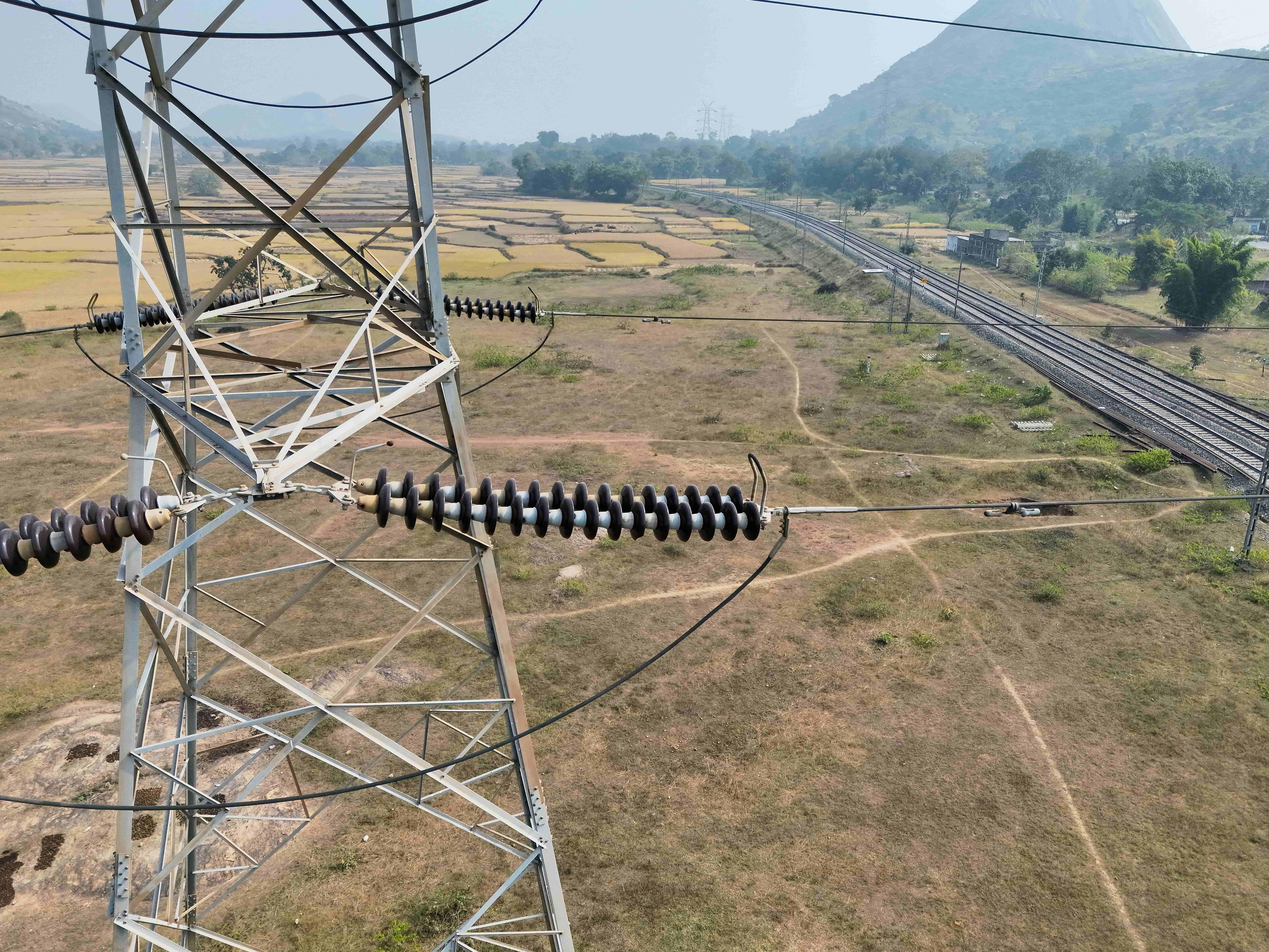broken_insulator: (628, 499, 649, 547)
